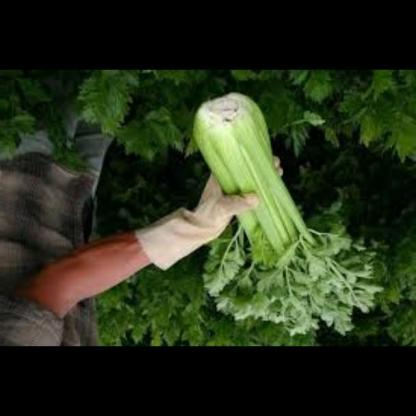celery: (186, 91, 385, 336)
